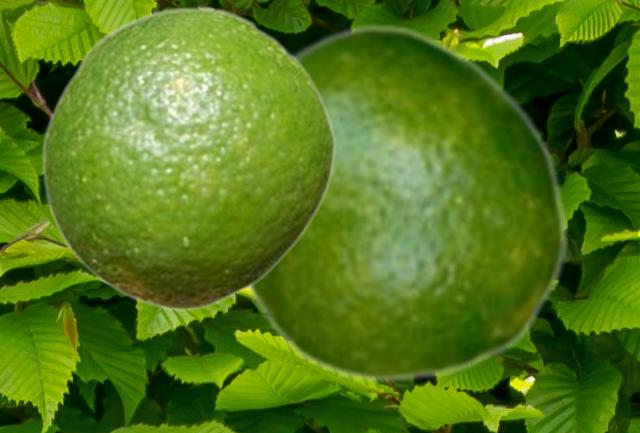calamansi: (242, 22, 569, 383), (41, 6, 335, 311)
